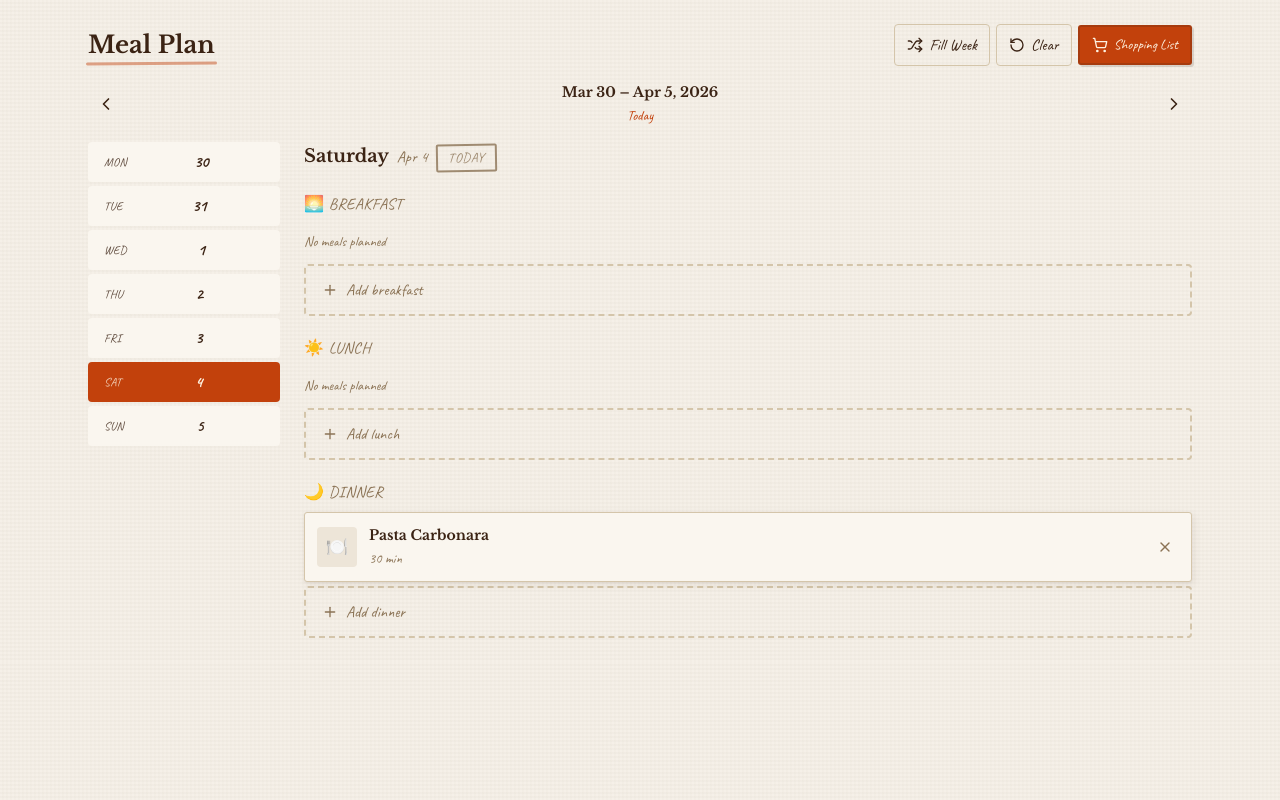
it: Meal Plan › M1: requires confirmation before removing a meal from the plan
Expected: the link "Pasta Carbonara" is shown, left=369, top=526, right=489, bottom=544
What coordinates should you click on to do the following:
click the button without text in the row of "Pasta Carbonara"
I would click on:
 (1165, 547)
Its box is left=1151, top=533, right=1179, bottom=561.
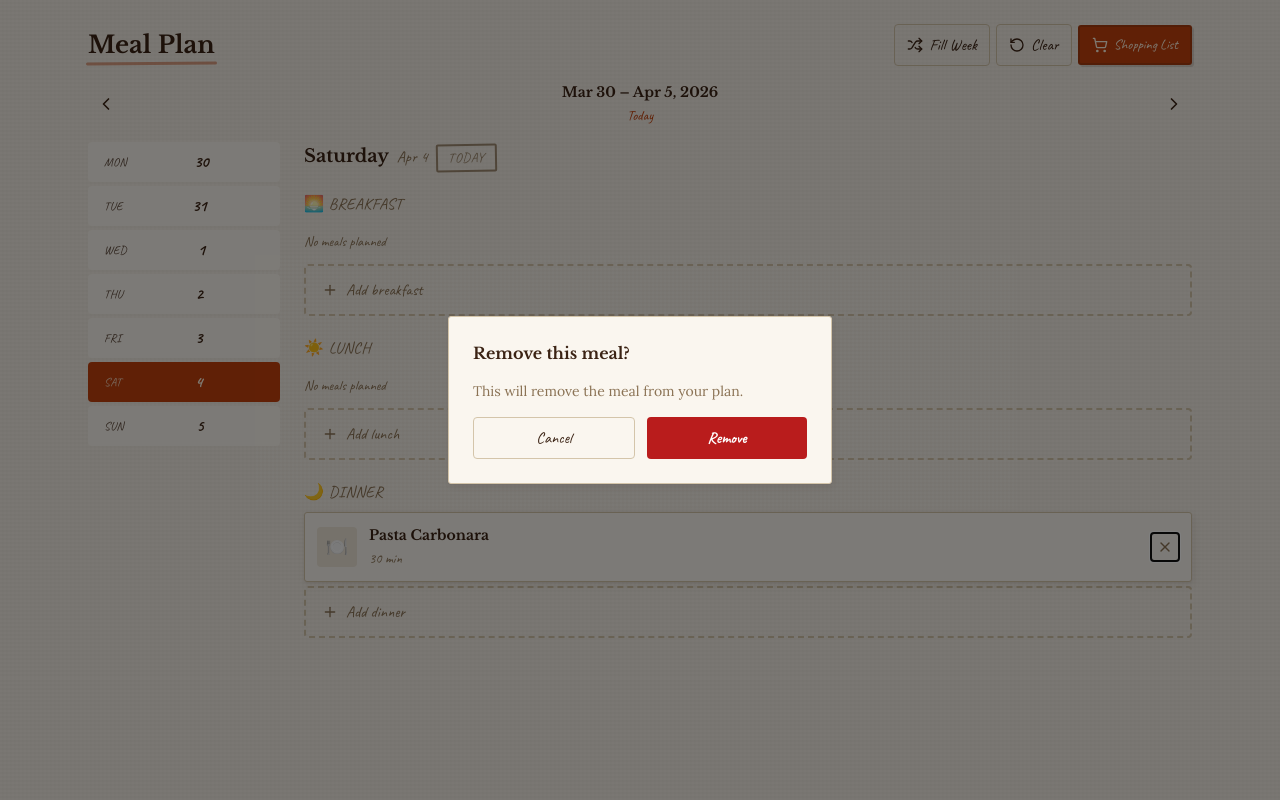
Expected: the link "Pasta Carbonara" is shown, left=369, top=526, right=489, bottom=544
Expected: the heading "Remove this meal?" is shown, left=473, top=343, right=630, bottom=363
